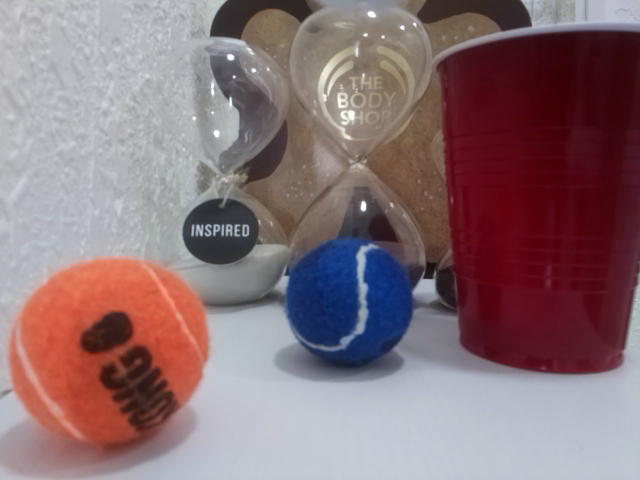blue-ball: (285, 236, 414, 370)
orange-ball: (7, 253, 212, 451)
